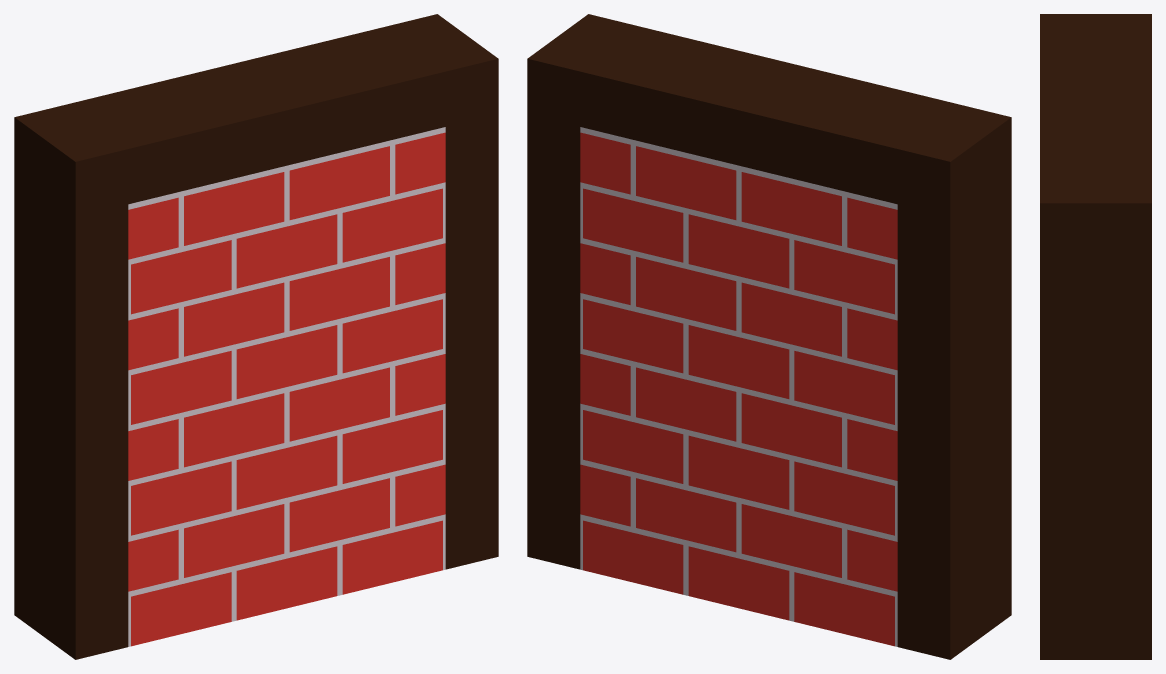
The model's file is BricksWall.fbx.
The picture shows the model from 3 angles, left to right: view 1: azimuth 30°, elevation 25°; view 2: azimuth 150°, elevation 25°; view 3: azimuth 270°, elevation 25°; orthographic projection. The views are drawn at different scales.
Parts seen in each view (by area): view 1: Cube.004, Cube.052, Cube.001, Cube.020, Cube.036, Cube.028, Cube.012, Cube.006, Cube.024, Cube.032, Cube.044, Cube.048 (+25 smaller); view 2: Cube.004, Cube.052, Cube.001, Cube.020, Cube.036, Cube.028, Cube.012, Cube.006, Cube.024, Cube.032, Cube.044, Cube.048 (+25 smaller); view 3: Cube.004.
Boxes of the visible parts, x1,y1,x2,y2 form: Cube.004: [14, 14, 498, 659]; Cube.052: [236, 214, 337, 288]; Cube.001: [236, 546, 337, 620]; Cube.020: [236, 435, 337, 509]; Cube.036: [236, 325, 337, 398]; Cube.028: [289, 367, 389, 441]; Cube.012: [289, 478, 389, 552]; Cube.006: [342, 520, 442, 594]; Cube.024: [131, 461, 231, 535]; Cube.032: [184, 393, 284, 467]; Cube.044: [289, 257, 389, 330]; Cube.048: [184, 282, 284, 356]; Cube.004: [527, 14, 1011, 659]; Cube.052: [688, 214, 789, 288]; Cube.001: [688, 546, 789, 620]; Cube.020: [688, 435, 789, 509]; Cube.036: [688, 325, 789, 398]; Cube.028: [636, 367, 736, 441]; Cube.012: [636, 478, 736, 552]; Cube.006: [583, 520, 683, 594]; Cube.024: [794, 461, 894, 535]; Cube.032: [741, 393, 841, 467]; Cube.044: [636, 257, 736, 330]; Cube.048: [741, 282, 841, 356]; Cube.004: [1040, 14, 1151, 659].
Size of the model in its own units: 160 by 180 by 40.
